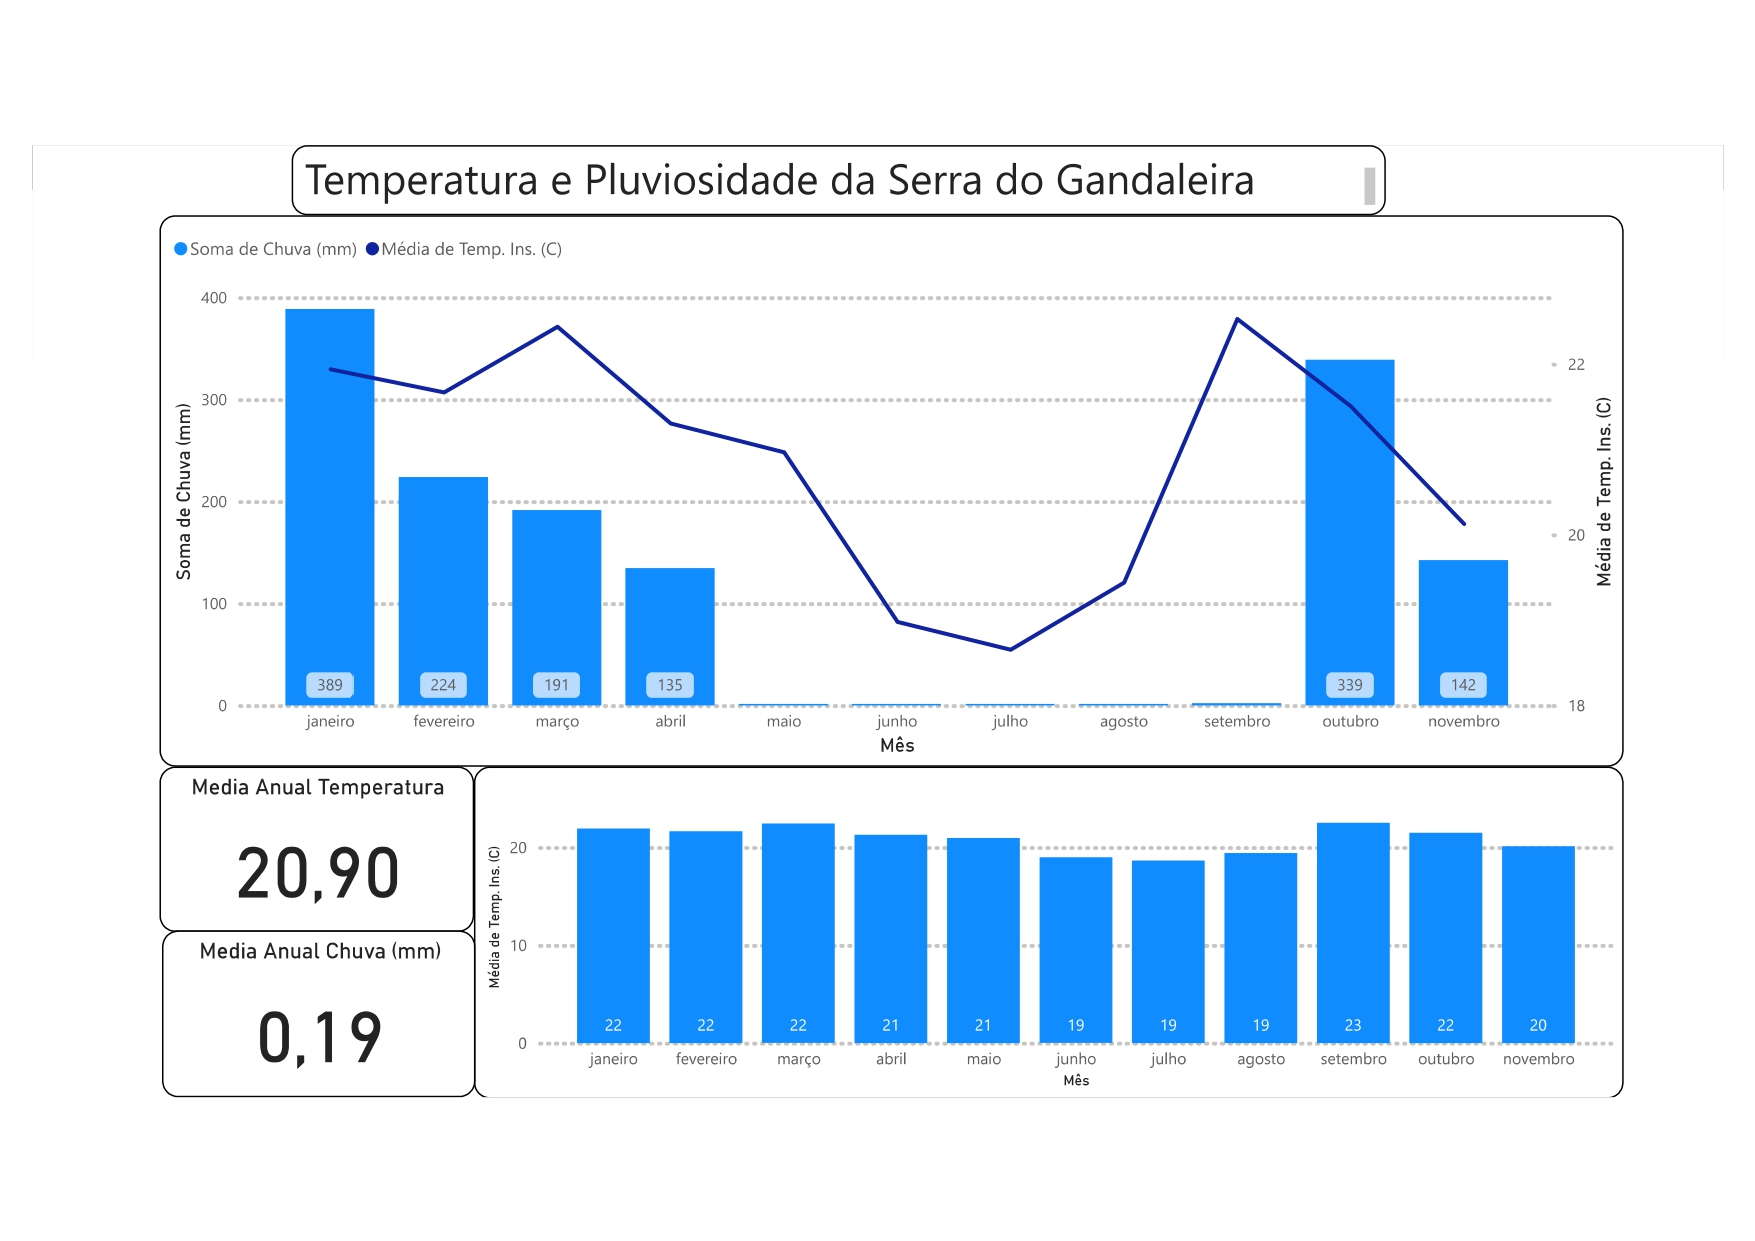

The dashboard page shown, as its layout file describes it:
{"tool":"powerbi","page":{"name":"Página 1","canvas":[1280,720],"ordinal":0},"visuals":[{"type":"lineClusteredColumnComboChart","fields":{"Category":["tabela.Data.Variation.Hierarquia de datas.Mês"],"Y":["Sum(tabela.Chuva (mm))"],"Y2":["Avg(tabela.Temp. Ins. (C))"]},"box":[96.3,53.3,1108,416.3],"z":0},{"type":"card","title":"Media Anual Temperatura","fields":{"Values":["Avg(tabela.Temp. Ins. (C))"]},"box":[96.3,469.7,237.4,125.6],"z":1},{"type":"clusteredColumnChart","fields":{"Y":["Avg(tabela.Temp. Ins. (C))"],"Category":["tabela.Data.Variation.Hierarquia de datas.Mês"]},"box":[333.8,469.7,870.5,251.2],"z":2},{"type":"textbox","box":[196.1,0,824.1,53.3],"z":4},{"type":"card","title":"Media Anual Chuva (mm)","fields":{"Values":["Avg(tabela.Chuva (mm))"]},"box":[98.1,594.4,237.4,125.6],"z":5}]}

Visuals, with their boxes in screenshot pixels (x1, y1, x2, y2):
lineClusteredColumnComboChart - tabela.Data.Variation.Hierarquia de datas.Mês x Sum(tabela.Chuva (mm)): select_region(162, 216, 1607, 759)
"Media Anual Temperatura" card: select_region(162, 759, 472, 923)
clusteredColumnChart - Avg(tabela.Temp. Ins. (C)) x tabela.Data.Variation.Hierarquia de datas.Mês: select_region(472, 759, 1607, 1086)
textbox: select_region(292, 146, 1367, 216)
"Media Anual Chuva (mm)" card: select_region(165, 921, 474, 1085)
